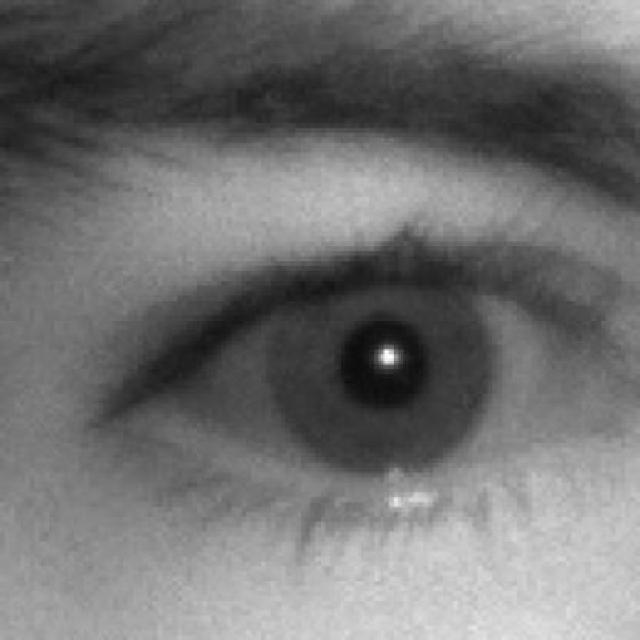awake: (128, 226, 635, 512)
